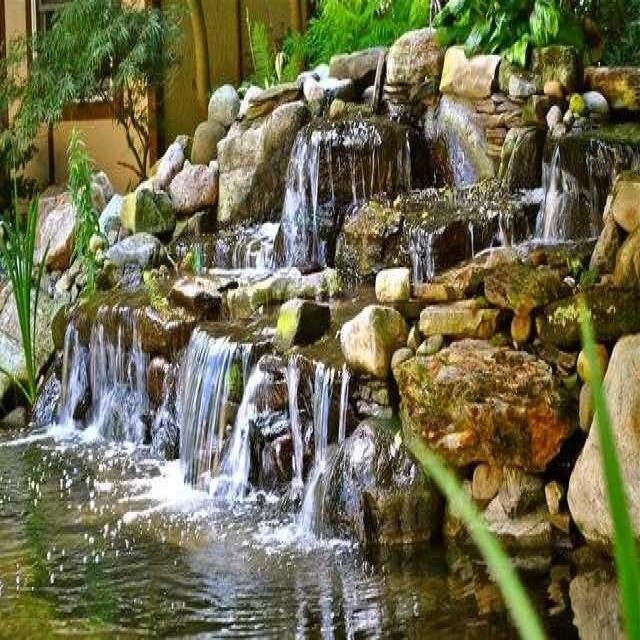Ponds: (1, 303, 640, 640)
